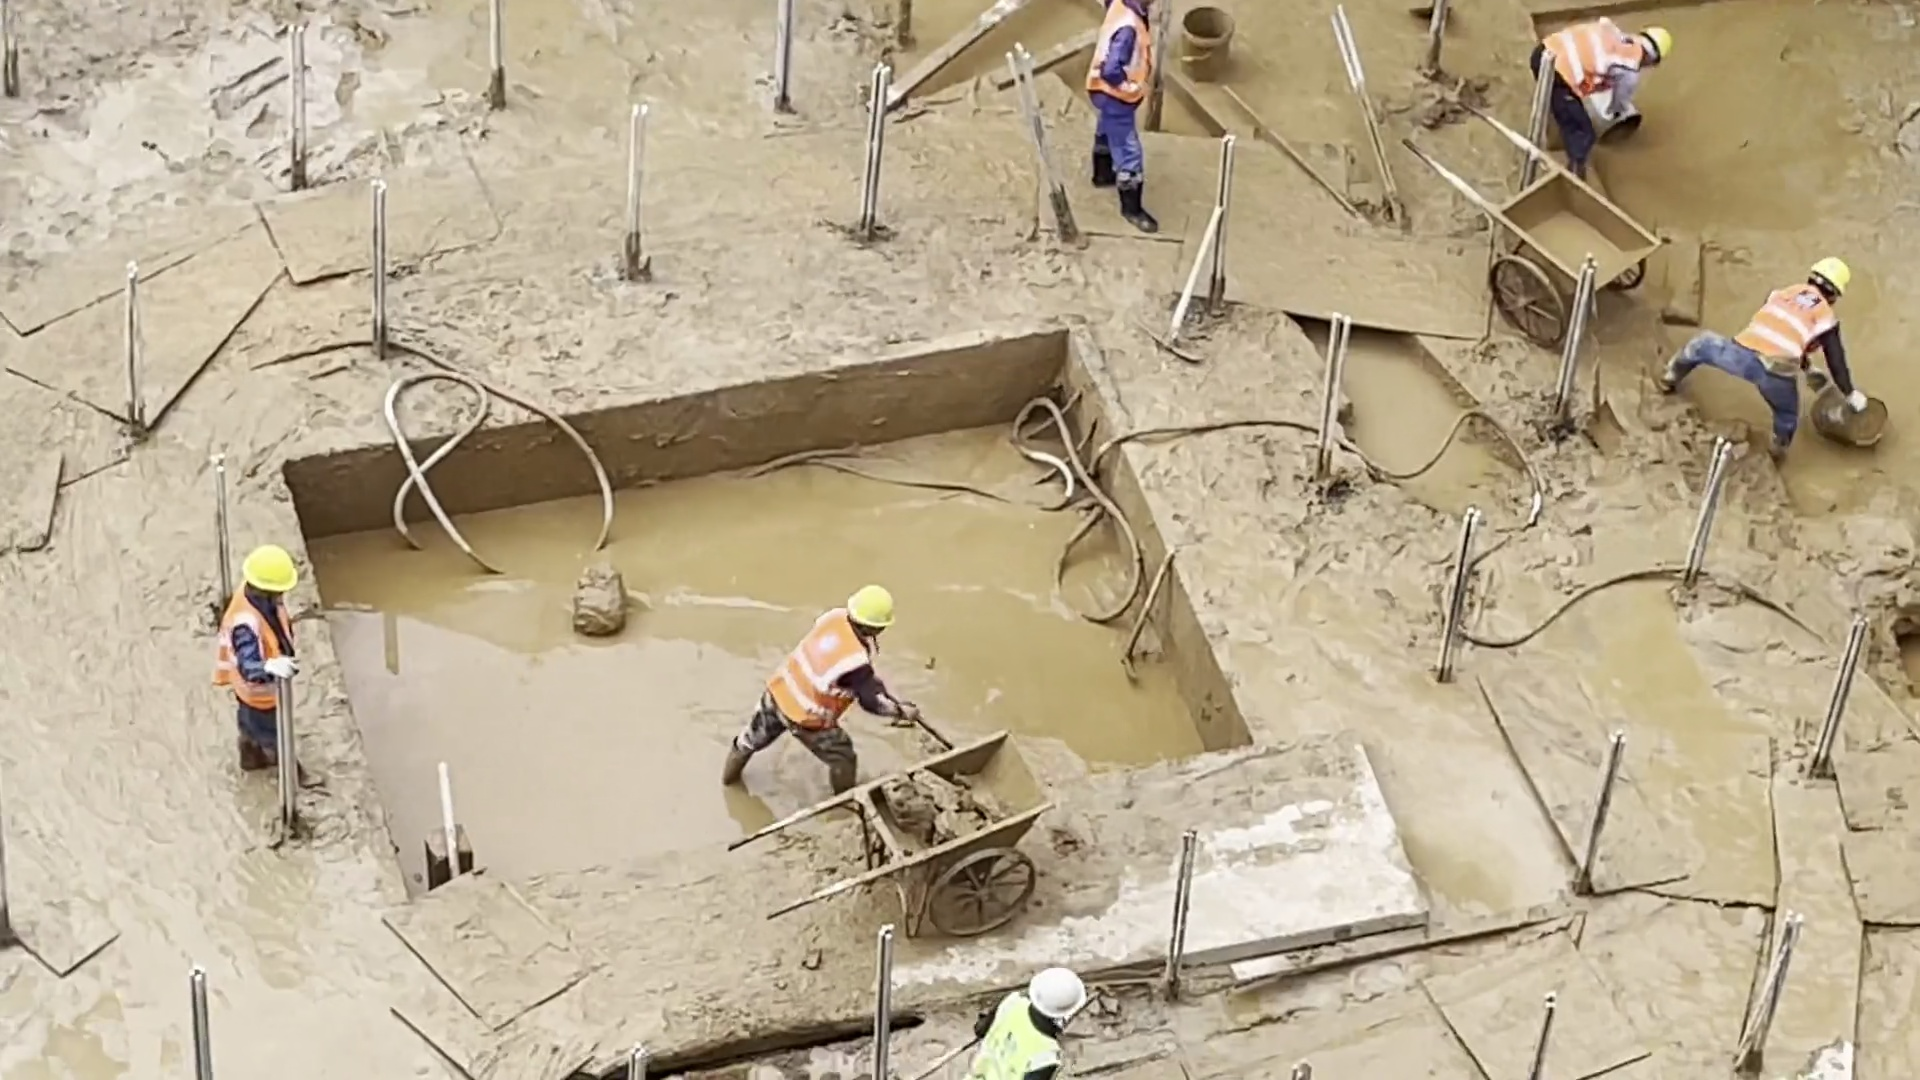handcart: (724, 728, 1055, 946), (1413, 110, 1668, 346)
helmet: (241, 541, 298, 591), (848, 586, 896, 628), (1811, 255, 1852, 294), (1645, 25, 1674, 60)
person: (1661, 245, 1863, 476), (713, 583, 902, 794), (209, 537, 326, 785), (1533, 16, 1669, 185), (1083, 1, 1166, 245)
vest: (1733, 285, 1851, 379), (766, 612, 866, 723), (212, 588, 297, 712), (1537, 16, 1648, 96), (1087, 1, 1150, 102)
